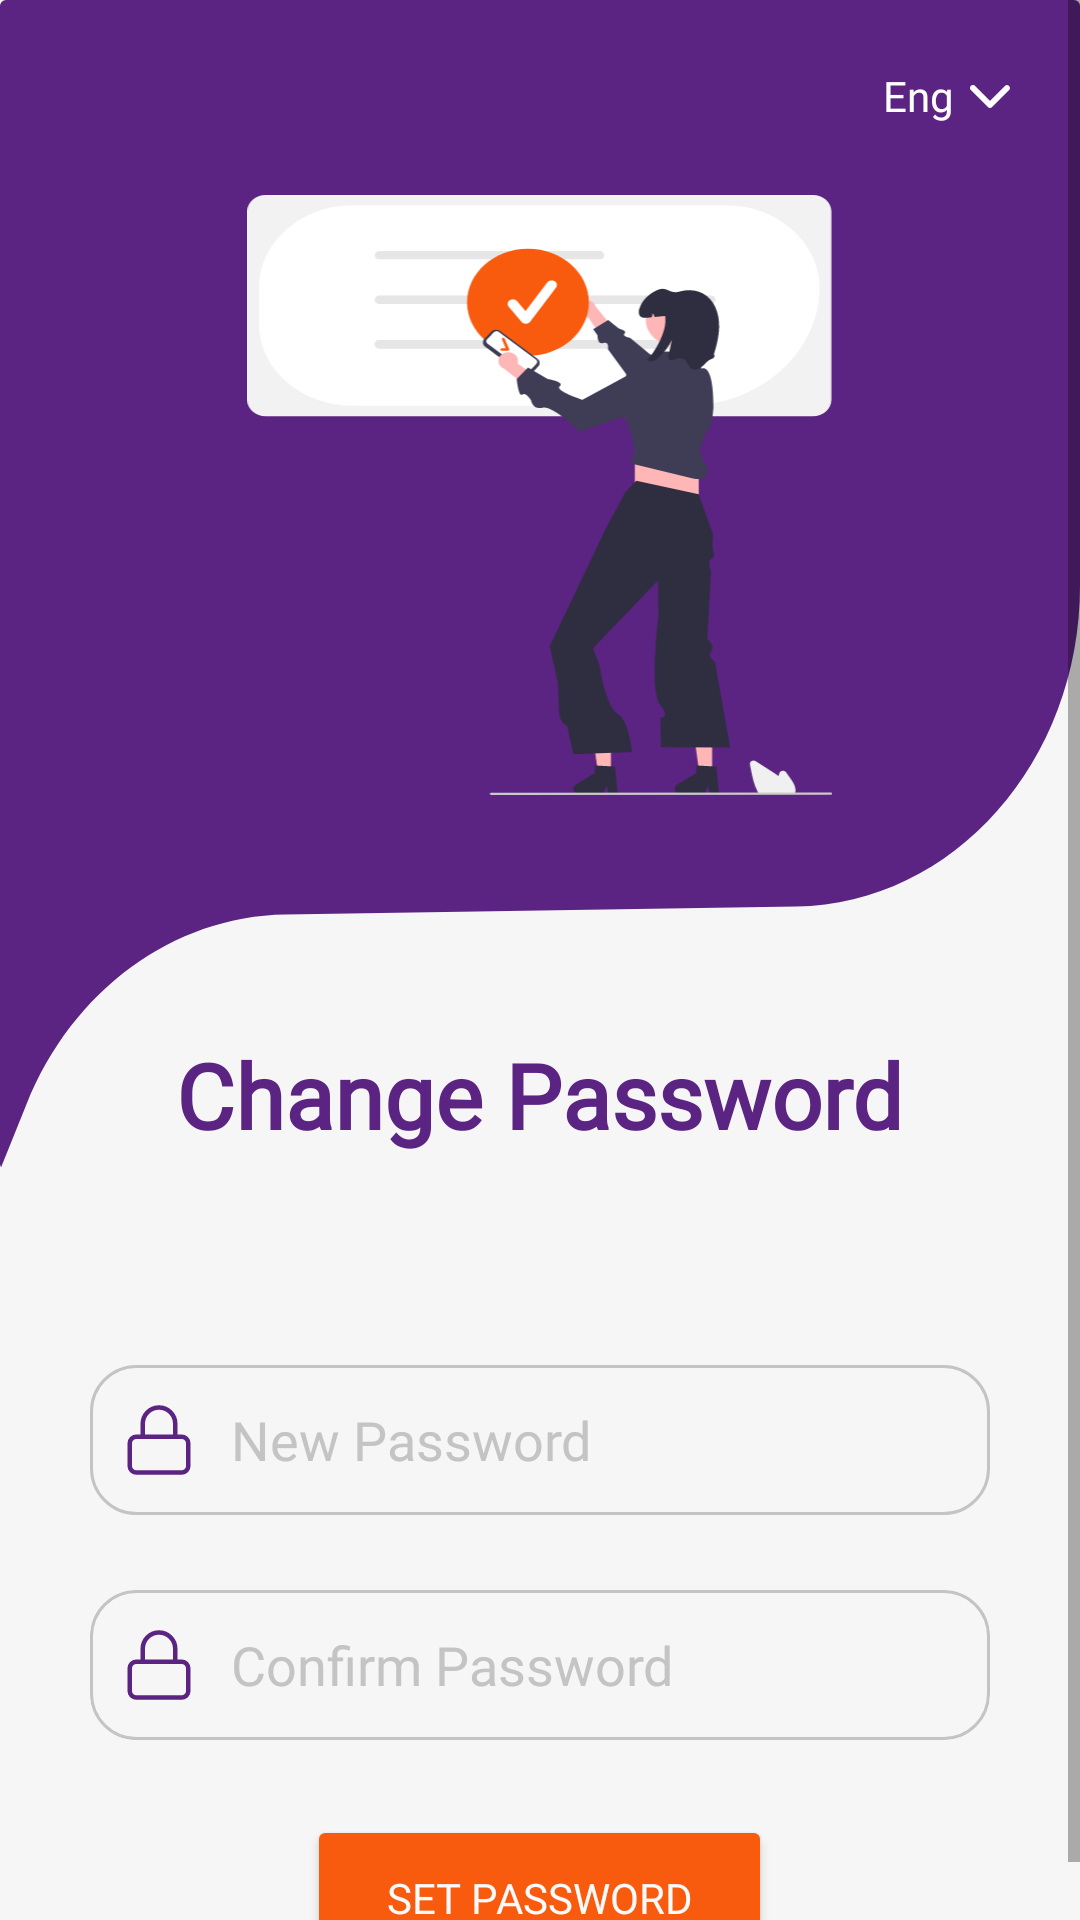

Where icons sit on this 1080px×1920px app screen, as [x1=x1, y1=y1, x2=x2, y2=y2]:
openlanguage: [x1=970, y1=85, x2=1010, y2=108]
passwordicon: [x1=127, y1=1405, x2=191, y2=1475], [x1=127, y1=1630, x2=191, y2=1700]
